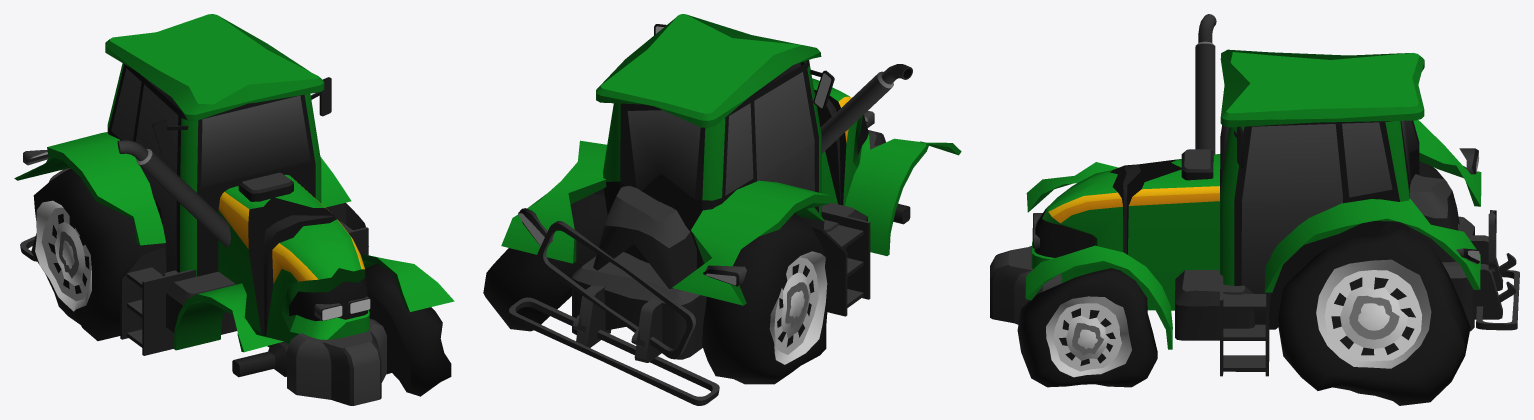
Rendered from Broken Truck.fbx.
The picture shows the model from 3 angles, left to right: view 1: azimuth 30°, elevation 25°; view 2: azimuth 150°, elevation 25°; view 3: azimuth 270°, elevation 25°; orthographic projection. The views are drawn at different scales.
Visible parts, largest first — view 1: Broken_Tractor; view 2: Broken_Tractor; view 3: Broken_Tractor.
Part boxes in pixels (<box>): Broken_Tractor: <box>14,14,454,405</box>; Broken_Tractor: <box>483,14,961,405</box>; Broken_Tractor: <box>990,14,1519,405</box>.
Bounding box in the file's own units: 275 × 233 × 400.
